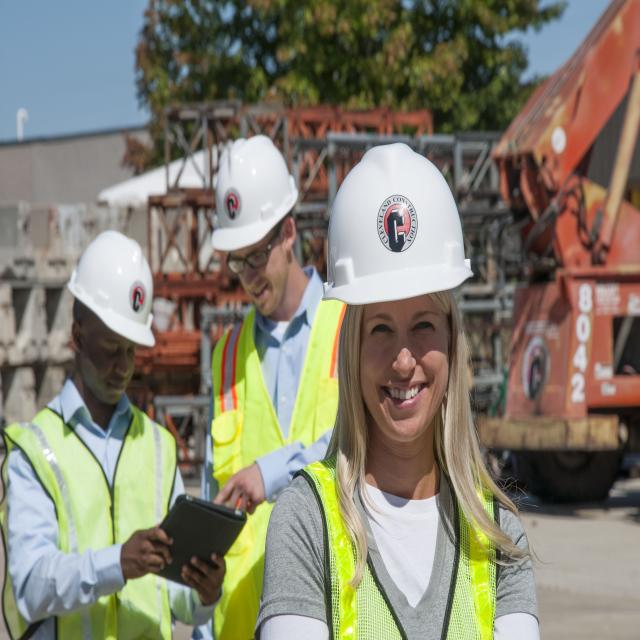Reflective-Jacket: (207, 284, 353, 632), (2, 386, 182, 639), (293, 443, 501, 640)
Safety-Helmet: (320, 139, 474, 308), (65, 223, 160, 352), (209, 127, 301, 256)
